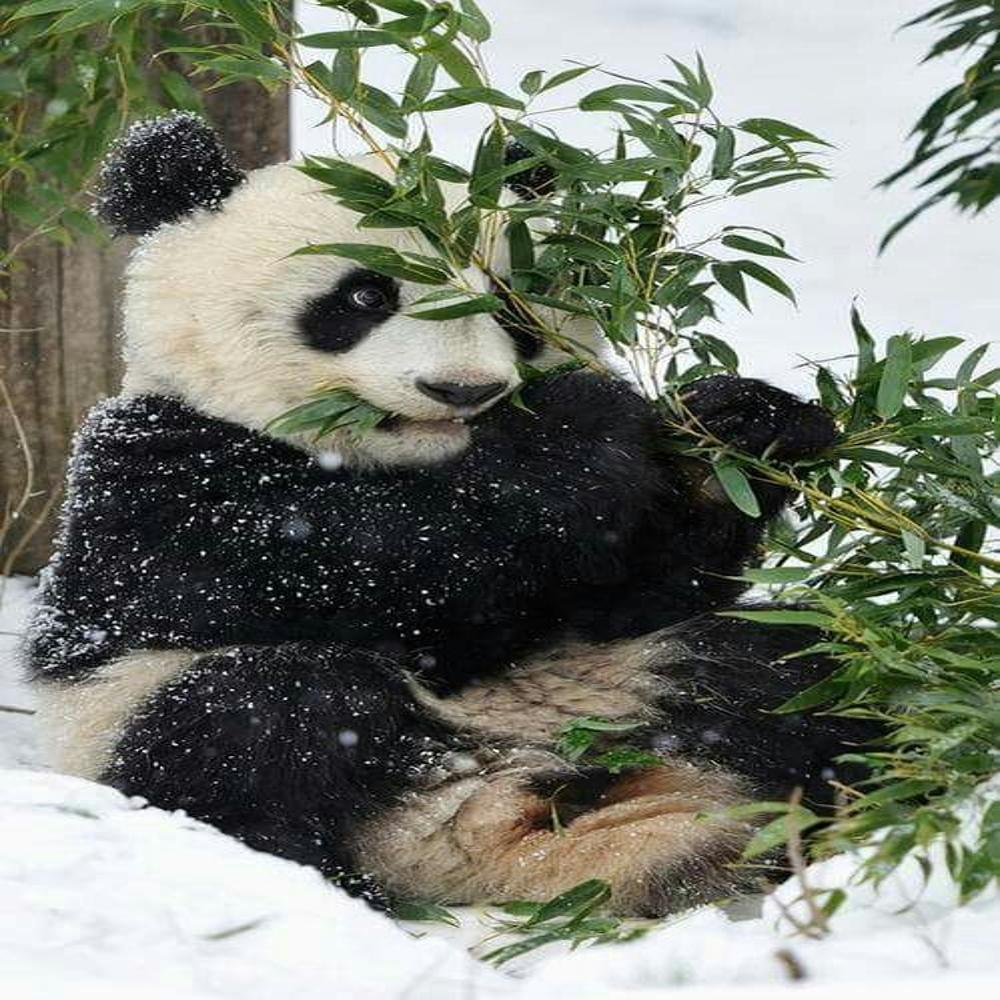panda: (30, 110, 925, 936)
